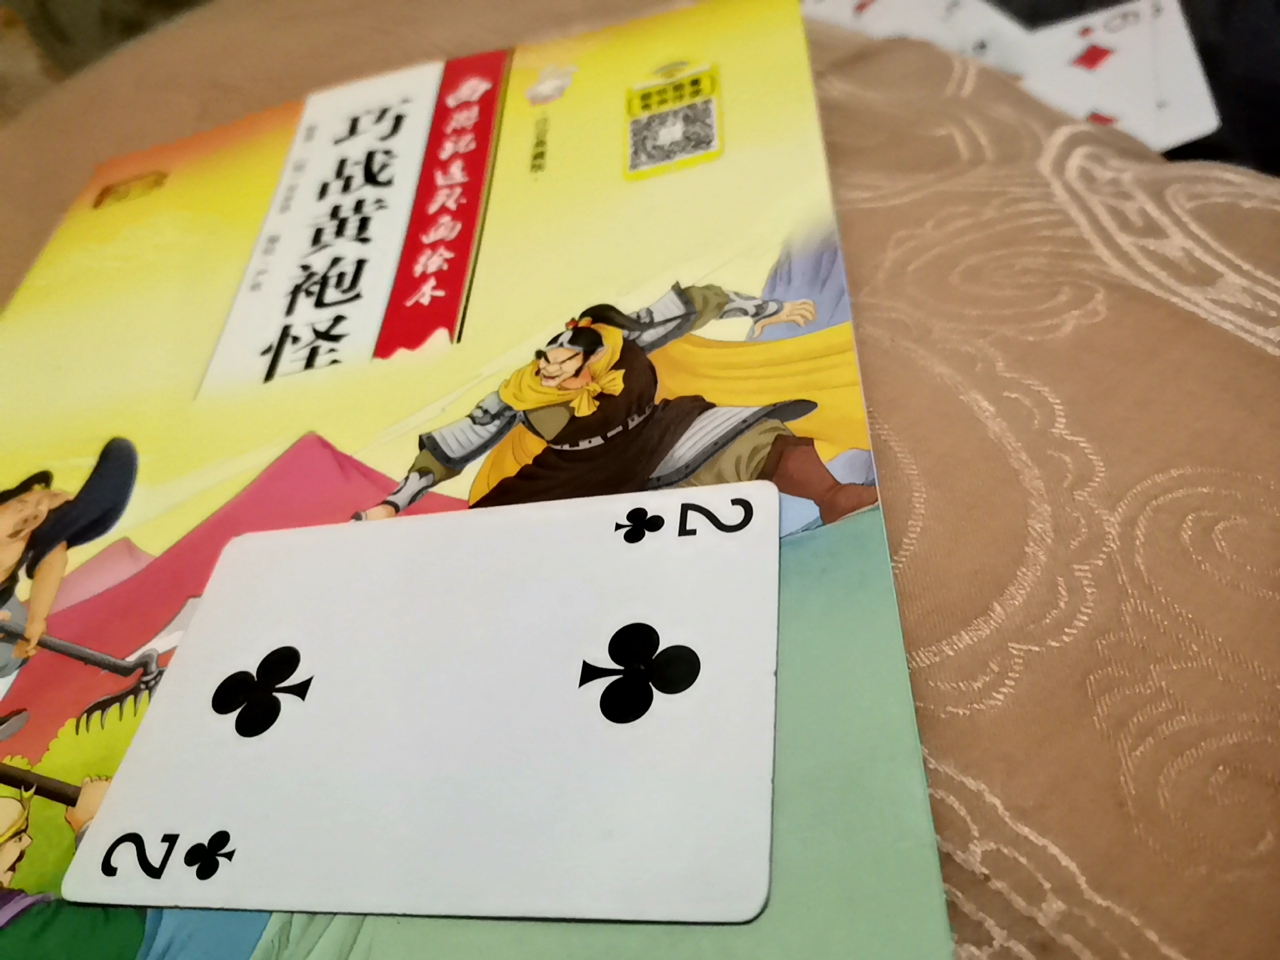mh 2: (124, 493, 803, 916)
